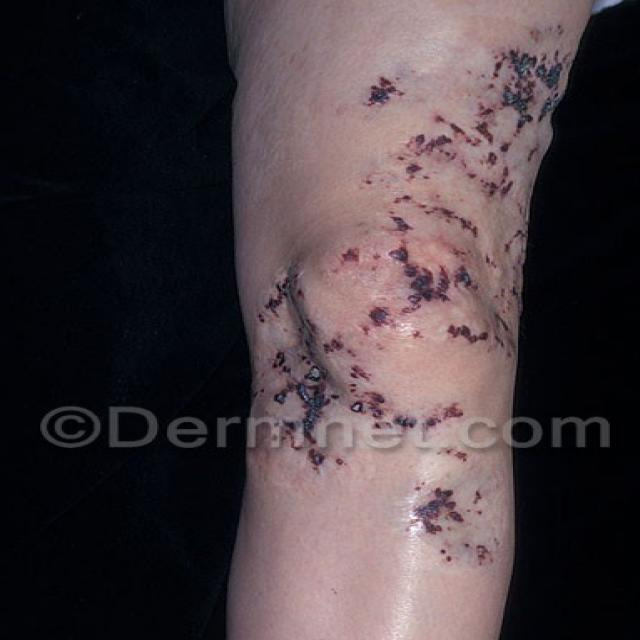Vascular Tumors: (244, 0, 585, 602)
